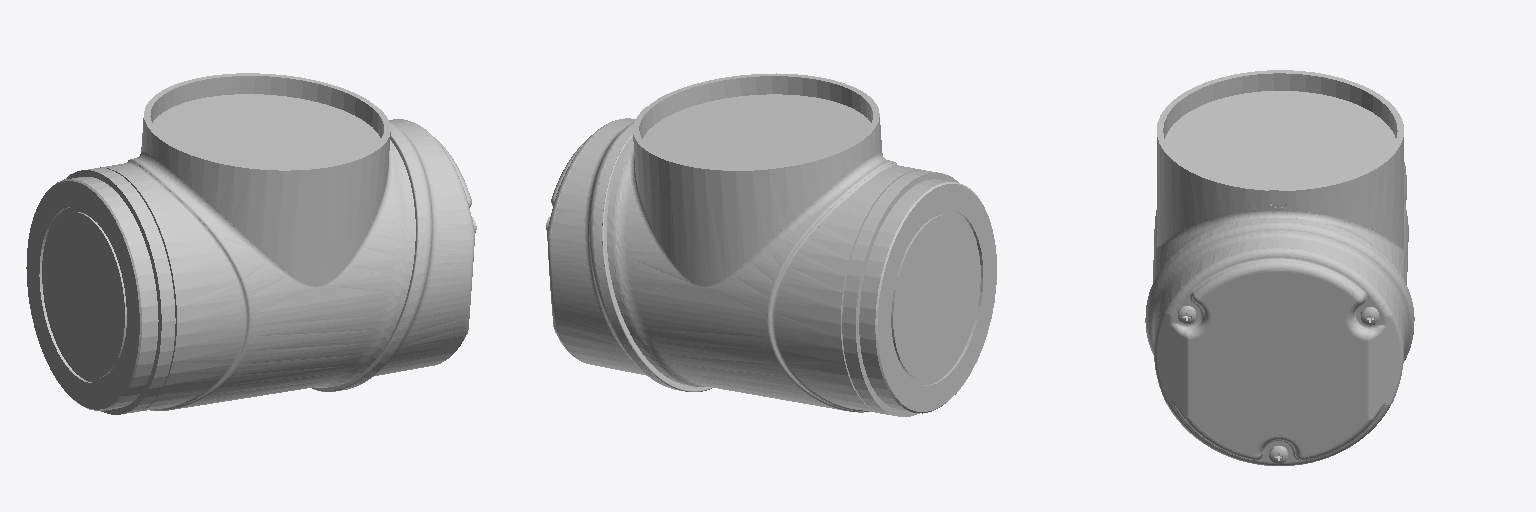
The model's file is AUBOMuñeca3.obj.
3 renders of one model, left to right at view 1: azimuth 30°, elevation 25°; view 2: azimuth 150°, elevation 25°; view 3: azimuth 270°, elevation 25°, orthographic.
Parts seen in each view (by area): view 1: uploads_files_[number redacted]_i3-V2.005; view 2: uploads_files_[number redacted]_i3-V2.005; view 3: uploads_files_[number redacted]_i3-V2.005.
Boxes of the visible parts, <box> form: uploads_files_[number redacted]_i3-V2.005: <box>26,73,476,414</box>; uploads_files_[number redacted]_i3-V2.005: <box>546,73,996,416</box>; uploads_files_[number redacted]_i3-V2.005: <box>1145,70,1414,465</box>.
Size of the model in its own units: 62.42 by 46.54 by 40.74.